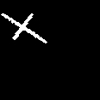single_crochet: (1, 14, 46, 42)
